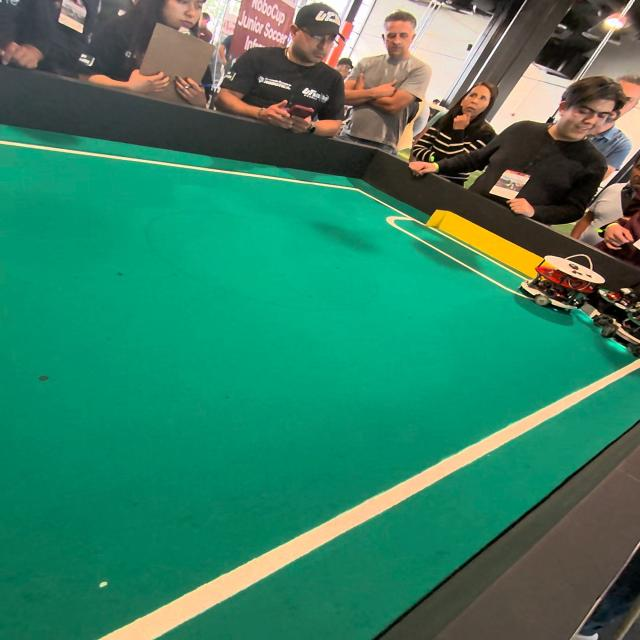Robot: (516, 256, 589, 320), (583, 283, 638, 367)
